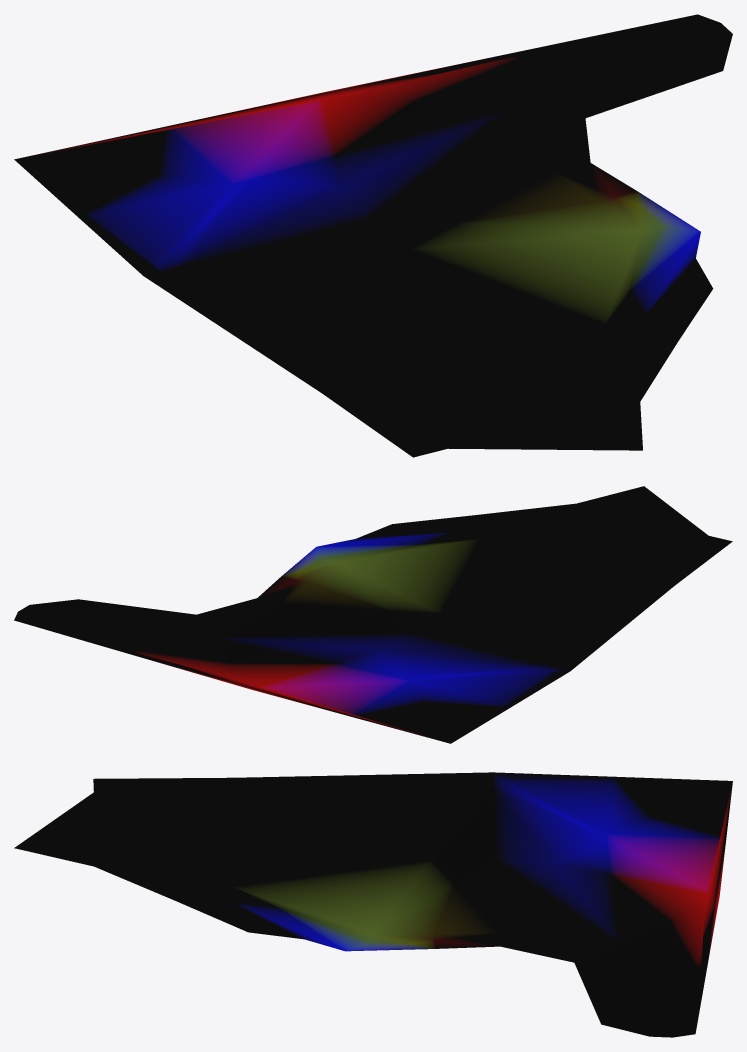
The picture shows the model from 3 angles, top to bottom: view 1: azimuth 30°, elevation 25°; view 2: azimuth 150°, elevation 25°; view 3: azimuth 270°, elevation 25°; orthographic projection. The views are drawn at different scales.
Parts seen in each view (by area): view 1: Sprite__5_; view 2: Sprite__5_; view 3: Sprite__5_.
Part boxes in pixels (x1,y1,x2,y2): Sprite__5_: [14, 14, 732, 457]; Sprite__5_: [14, 486, 732, 743]; Sprite__5_: [14, 772, 732, 1037].
Size of the model in its own units: 1612 by 10.01 by 1839.
